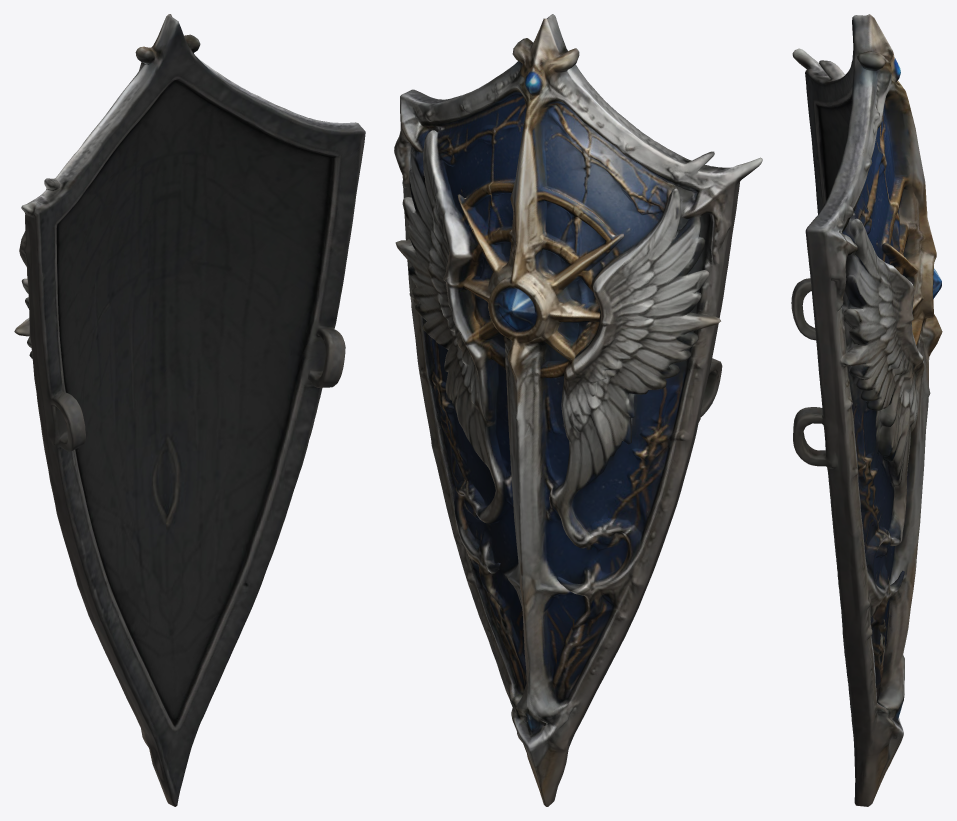
File: kite_azure_wing.glb
3 renders of one model, left to right at view 1: azimuth 30°, elevation 25°; view 2: azimuth 150°, elevation 25°; view 3: azimuth 270°, elevation 25°, orthographic.
Visible parts, largest first — view 1: kite_azure_wing; view 2: kite_azure_wing; view 3: kite_azure_wing.
Boxes of the visible parts, <box> form: kite_azure_wing: <box>14,14,365,806</box>; kite_azure_wing: <box>394,14,762,806</box>; kite_azure_wing: <box>791,14,942,806</box>.
Bounding box in the file's own units: 0.3911 × 0.8438 × 0.1458.
1 material, 1 textured.
